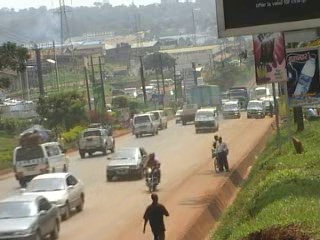Car: (19, 169, 88, 220), (0, 192, 69, 239), (103, 142, 147, 181), (173, 106, 182, 124)
Motorcycle: (140, 155, 163, 194)
